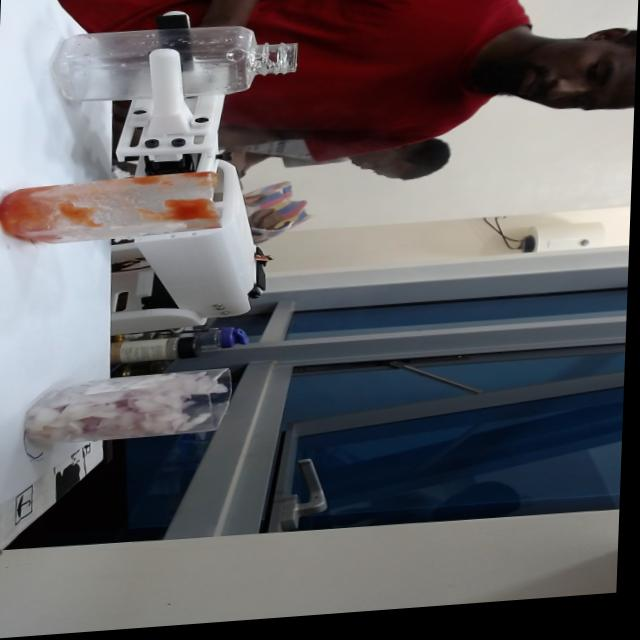blended_tomatoes_pepper: (3, 176, 212, 242)
sliced_onions: (14, 374, 216, 453)
water: (63, 27, 253, 107)
